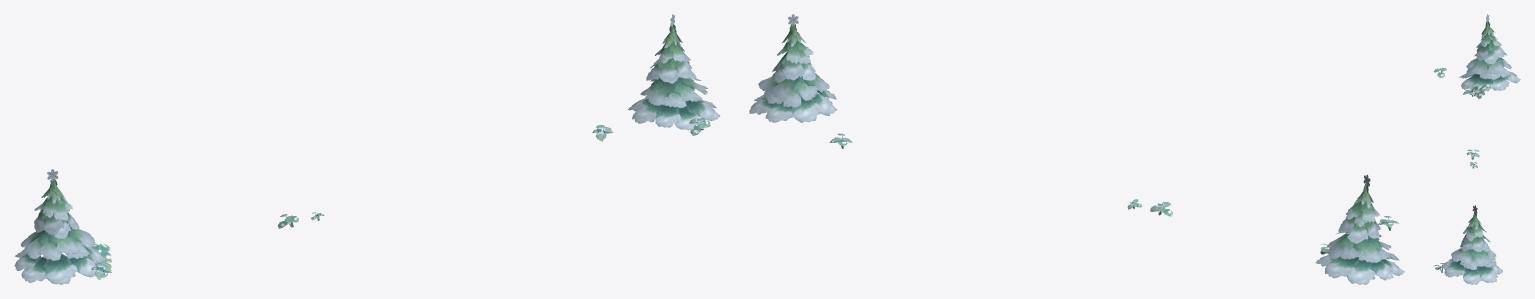
Rendered from pref_sm_beach_bk_winter_pointmol_tree_D01_lv1.fbx.
3 renders of one model, left to right at view 1: azimuth 30°, elevation 25°; view 2: azimuth 150°, elevation 25°; view 3: azimuth 270°, elevation 25°, orthographic. The views are drawn at different scales.
Parts seen in each view (by area): view 1: sm_beach_bk_winter_pointmol_tree_D01a_lv1; view 2: sm_beach_bk_winter_pointmol_tree_D01a_lv1; view 3: sm_beach_bk_winter_pointmol_tree_D01a_lv1.
Boxes of the visible parts, x1,y1,x2,y2 form: sm_beach_bk_winter_pointmol_tree_D01a_lv1: (14, 14, 719, 284); sm_beach_bk_winter_pointmol_tree_D01a_lv1: (749, 14, 1404, 284); sm_beach_bk_winter_pointmol_tree_D01a_lv1: (1434, 14, 1520, 284).
Bounding box in the file's own units: 51.81 × 8.62 × 8.6.
